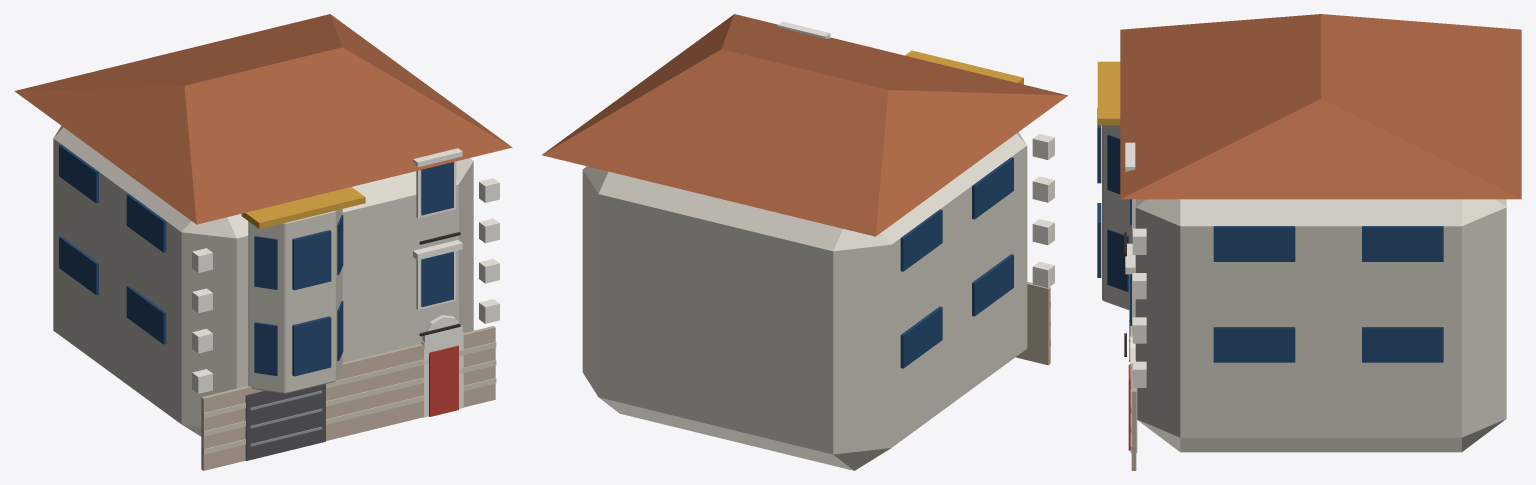
The model's file is marina_w11_hip.glb.
3 renders of one model, left to right at view 1: azimuth 30°, elevation 25°; view 2: azimuth 150°, elevation 25°; view 3: azimuth 270°, elevation 25°, orthographic. The views are drawn at different scales.
Parts seen in each view (by area): view 1: hip, walls, base, bay, gdoor, scallop, bw, bw.001, edoor, wgl, wgl.001, sb (+13 smaller); view 2: walls, hip, base, sb.002, sb.006, sb, sb.004, scallop; view 3: walls, hip, sb.001, sb.005, sb.003, sb.007, bay, scallop, bwa.001, bwa.003, base.
Part boxes in pixels (x1,y1,x2,y2): hip: [14, 14, 512, 224]; walls: [53, 126, 473, 436]; base: [201, 326, 495, 470]; bay: [248, 209, 342, 393]; gdoor: [245, 384, 325, 460]; scallop: [241, 187, 365, 228]; bw: [292, 316, 331, 376]; bw.001: [292, 230, 331, 290]; edoor: [429, 345, 458, 416]; wgl: [421, 251, 453, 306]; wgl.001: [421, 162, 453, 215]; sb: [126, 285, 166, 344]; walls: [582, 132, 1027, 470]; hip: [542, 14, 1067, 236]; base: [1015, 281, 1050, 365]; sb.002: [900, 306, 942, 368]; sb.006: [900, 209, 942, 271]; sb: [972, 254, 1013, 316]; sb.004: [972, 157, 1013, 219]; scallop: [905, 50, 1023, 84]; walls: [1135, 199, 1506, 452]; hip: [1120, 14, 1521, 199]; sb.001: [1213, 327, 1295, 362]; sb.005: [1213, 226, 1295, 261]; sb.003: [1362, 327, 1443, 362]; sb.007: [1362, 226, 1443, 261]; bay: [1102, 125, 1132, 310]; scallop: [1097, 61, 1120, 125]; bwa.001: [1107, 229, 1128, 291]; bwa.003: [1107, 134, 1120, 194]; base: [1131, 326, 1136, 470].
Bounding box in the file's own units: 11.9 × 11 × 12.59.
